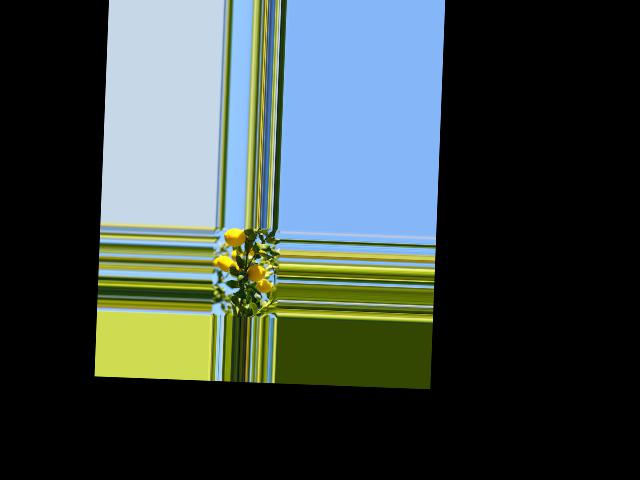lemon: (220, 227, 248, 248)
